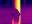Hotspot: (15, 0, 21, 14)
